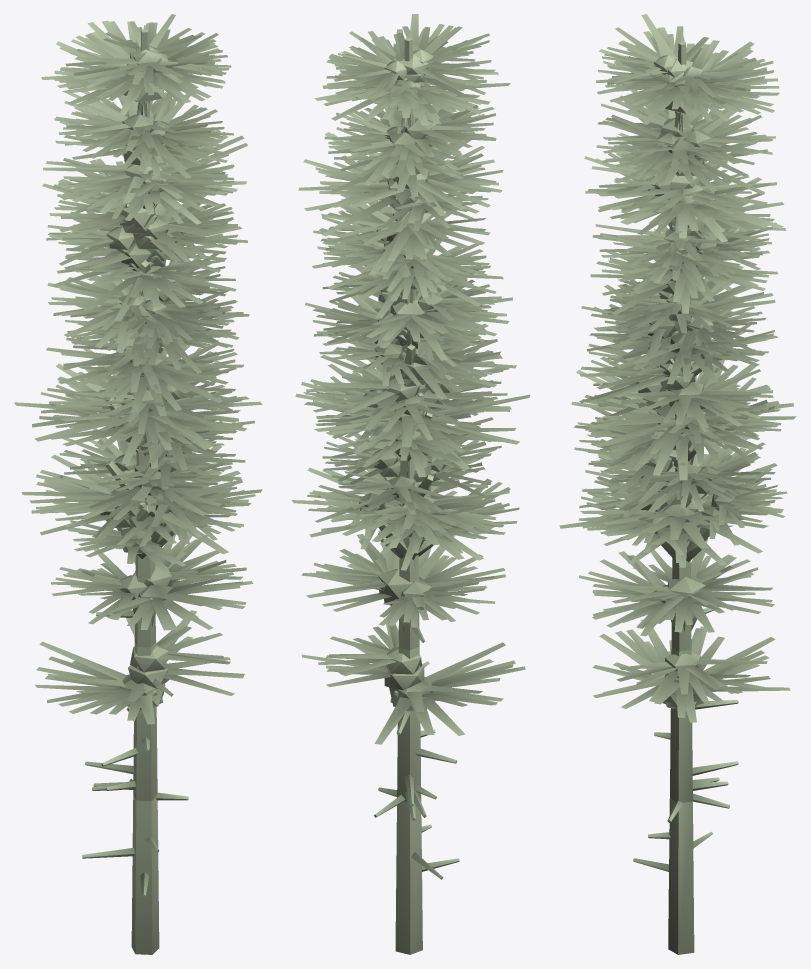
The model's file is tree_pine.glb.
The picture shows the model from 3 angles, left to right: view 1: azimuth 30°, elevation 25°; view 2: azimuth 150°, elevation 25°; view 3: azimuth 270°, elevation 25°; orthographic projection.
Parts seen in each view (by area): view 1: tier2_foliage, tier1_foliage, tier0_foliage, tier0_bark, tier2_bark; view 2: tier2_foliage, tier1_foliage, tier0_foliage, tier0_bark, tier2_bark, tier1_bark; view 3: tier2_foliage, tier1_foliage, tier0_foliage, tier0_bark, tier2_bark, tier1_bark.
Boxes of the visible parts, x1=… form: tier2_foliage: x1=36, y1=14, x2=255, y2=574; tier1_foliage: x1=22, y1=21, x2=253, y2=630; tier0_foliage: x1=14, y1=20, x2=262, y2=724; tier0_bark: x1=82, y1=29, x2=159, y2=954; tier2_bark: x1=93, y1=202, x2=188, y2=800; tier2_foliage: x1=303, y1=25, x2=519, y2=570; tier1_foliage: x1=301, y1=14, x2=516, y2=627; tier0_foliage: x1=291, y1=80, x2=530, y2=744; tier0_bark: x1=374, y1=37, x2=459, y2=954; tier2_bark: x1=377, y1=198, x2=457, y2=820; tier1_bark: x1=396, y1=289, x2=438, y2=832; tier2_foliage: x1=574, y1=27, x2=787, y2=555; tier1_foliage: x1=579, y1=14, x2=785, y2=636; tier0_foliage: x1=559, y1=40, x2=796, y2=722; tier0_bark: x1=633, y1=41, x2=738, y2=954; tier2_bark: x1=661, y1=217, x2=728, y2=822; tier1_bark: x1=636, y1=111, x2=738, y2=839.
Bounding box in the file's own units: 0.2438 × 1 × 0.2374.
